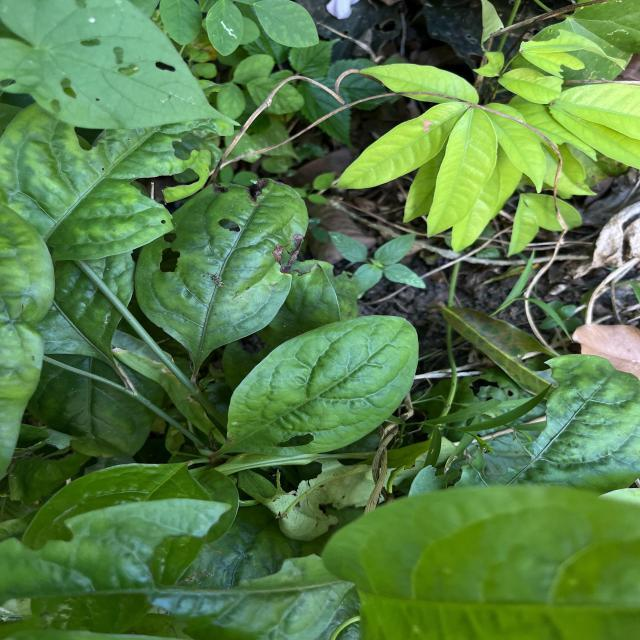Plumbago indica: (132, 177, 310, 350), (218, 312, 426, 459)
